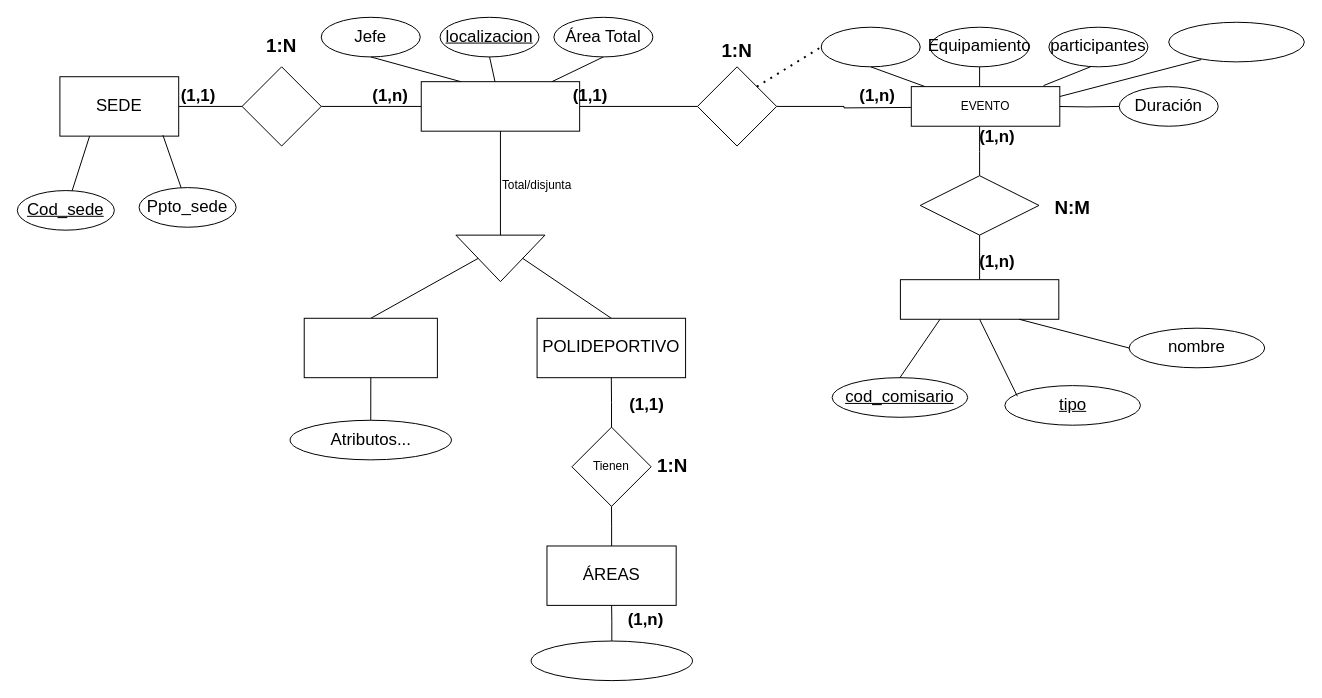
This 1322x698 diagram has some shape labels left out. The centre of each missing label's shape, as x and y in pixels:
"celebra" belongs at (736,106).
"cod_evento" belongs at (1236,41).
"COMISARIO" belongs at (979,299).
"COMPLEJOS" belongs at (500,106).
"Fecha" belongs at (870,46).
"ind_localización" belongs at (611,660).
"Participa" belongs at (979,205).
"Se divide" belongs at (281,106).
"UNIDEPORTIVO" belongs at (370,347).
